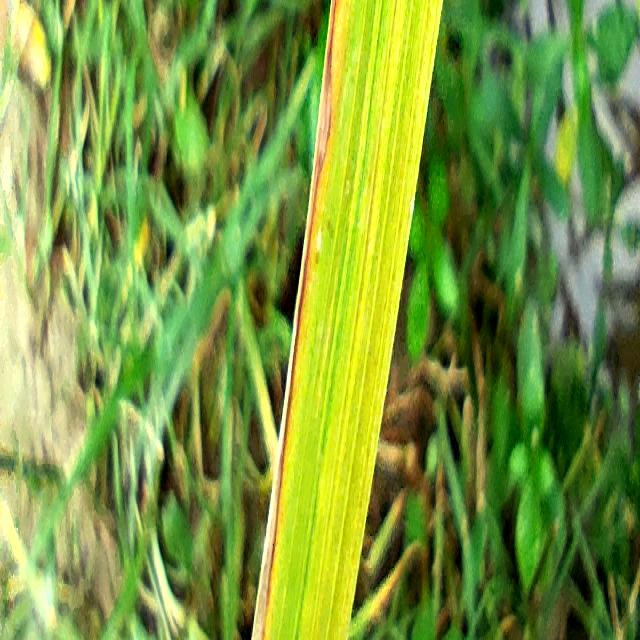BLB: (252, 0, 339, 640)
